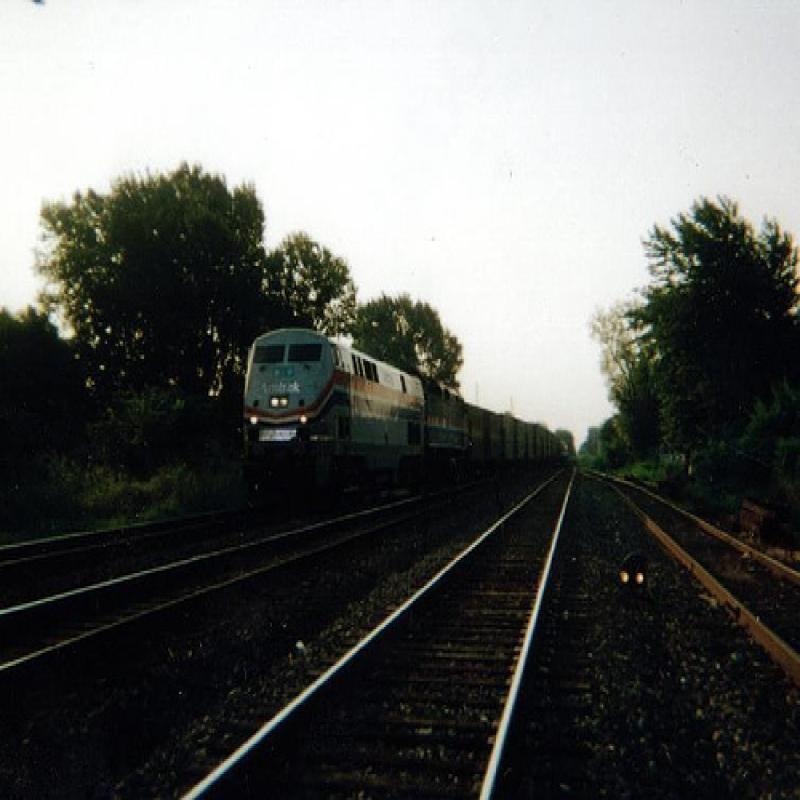train: (241, 327, 572, 505)
